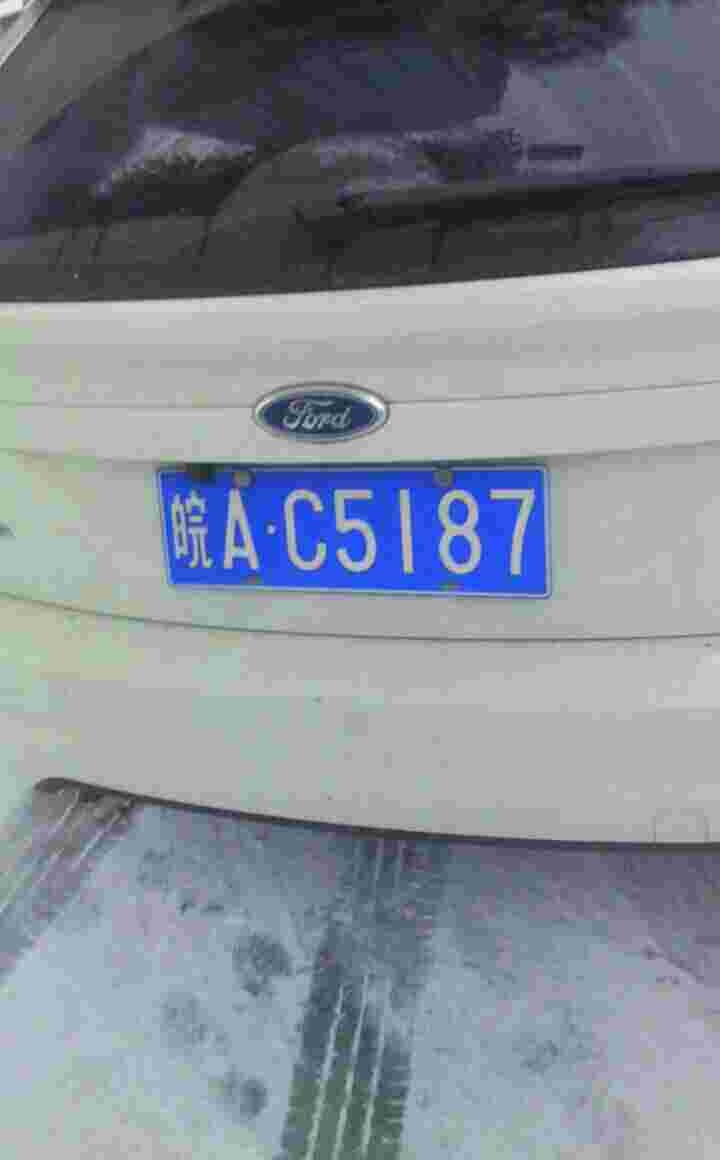plate: (140, 436, 576, 623)
